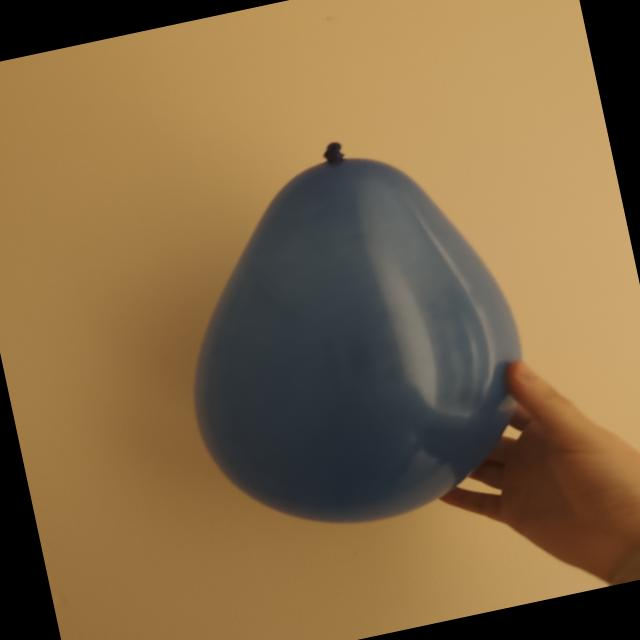balloon: (195, 142, 521, 522)
